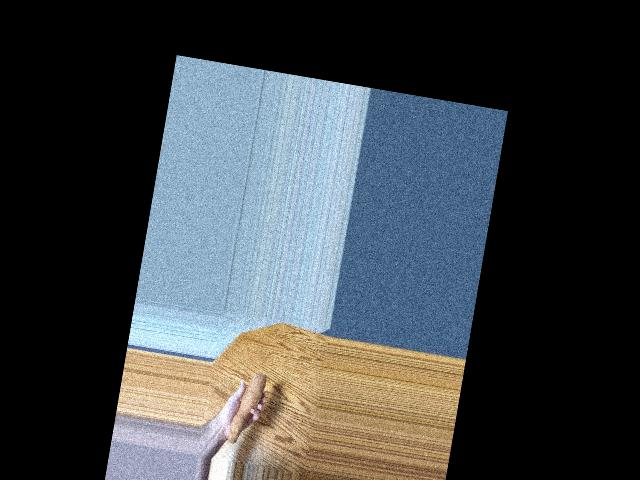sweet_potato: (225, 369, 270, 455)
